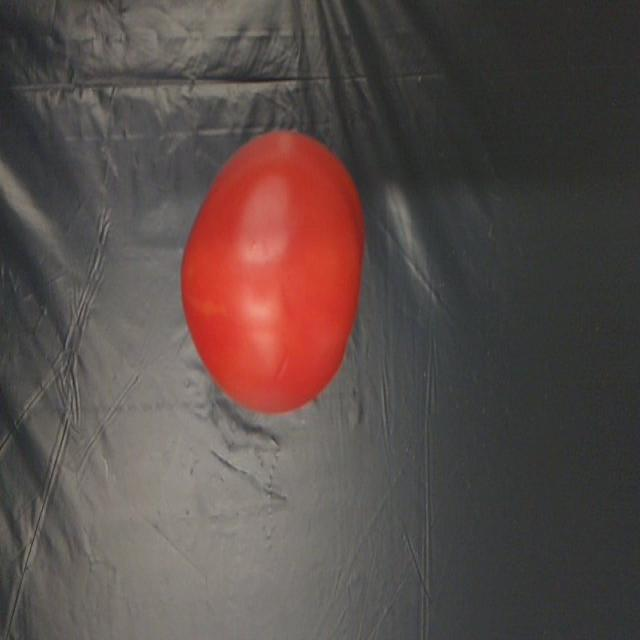kirmizi: (186, 124, 364, 417)
